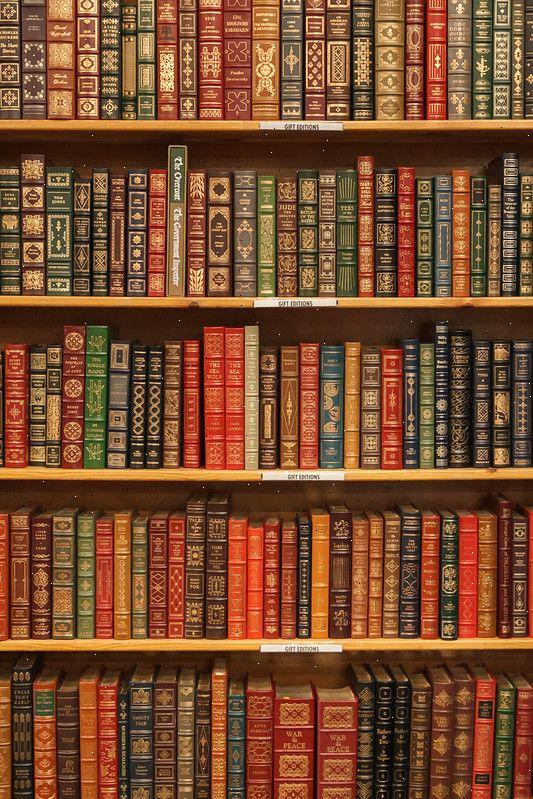book: (3, 251, 522, 300), (5, 605, 518, 646), (6, 435, 530, 475), (316, 684, 359, 799), (273, 684, 316, 799), (10, 653, 40, 798), (445, 666, 476, 799), (127, 665, 156, 799), (348, 664, 377, 796), (84, 324, 110, 469), (428, 665, 457, 795), (31, 665, 59, 798), (45, 167, 73, 300), (20, 154, 46, 297), (61, 322, 86, 470), (489, 671, 518, 797), (470, 667, 498, 797), (51, 509, 78, 643), (205, 492, 229, 639), (8, 507, 34, 642), (406, 668, 433, 797), (376, 2, 405, 122), (106, 337, 132, 470), (246, 676, 274, 799), (251, 2, 280, 119), (46, 0, 75, 117), (56, 669, 82, 799), (328, 504, 353, 639), (223, 2, 252, 118), (29, 509, 54, 642), (96, 666, 121, 799), (153, 666, 178, 799), (184, 493, 206, 640), (167, 146, 188, 300), (449, 328, 472, 468), (203, 326, 225, 471), (398, 506, 422, 638), (207, 170, 231, 301), (79, 667, 103, 798), (3, 343, 28, 468), (372, 662, 396, 792), (389, 664, 413, 793), (20, 2, 47, 116), (198, 2, 224, 120), (75, 510, 98, 642), (225, 328, 246, 472), (320, 345, 344, 470), (326, 2, 351, 120), (75, 0, 100, 118), (234, 171, 257, 299), (336, 167, 358, 300), (476, 509, 498, 640), (511, 339, 533, 470), (375, 167, 397, 298), (510, 672, 533, 797), (457, 509, 479, 638), (297, 171, 319, 299), (448, 2, 472, 119), (226, 676, 249, 798), (382, 347, 404, 474), (496, 492, 515, 637), (299, 341, 320, 472), (126, 168, 147, 299), (176, 667, 197, 798), (420, 510, 441, 640), (439, 510, 460, 639), (0, 167, 21, 296), (510, 506, 530, 641), (350, 2, 373, 119), (360, 344, 381, 472), (281, 2, 304, 118), (310, 507, 330, 639), (502, 152, 520, 298), (277, 176, 298, 300), (148, 512, 168, 642), (147, 169, 167, 299), (472, 339, 492, 469), (95, 511, 115, 641), (426, 2, 448, 120), (381, 510, 401, 639), (492, 340, 512, 469), (157, 3, 179, 120), (100, 2, 122, 119), (167, 513, 187, 641), (304, 2, 326, 118), (358, 157, 376, 298), (472, 3, 494, 118), (228, 515, 248, 641), (259, 346, 279, 472), (280, 347, 300, 473), (194, 671, 214, 797), (183, 338, 202, 470), (187, 170, 206, 302), (211, 663, 230, 795), (72, 171, 92, 296), (163, 339, 182, 470), (452, 169, 471, 300), (318, 170, 337, 300), (257, 175, 277, 298), (405, 2, 426, 119), (113, 511, 132, 640), (130, 512, 149, 641), (244, 327, 261, 471), (136, 2, 157, 118), (129, 344, 148, 471), (91, 169, 110, 296), (351, 513, 370, 639), (398, 168, 416, 301), (415, 175, 434, 300), (0, 4, 21, 116), (492, 2, 512, 119), (178, 2, 198, 119), (28, 346, 47, 469), (435, 323, 451, 466), (435, 174, 453, 301), (367, 512, 385, 638), (146, 345, 164, 471), (109, 172, 127, 298), (263, 516, 281, 640), (247, 517, 265, 640), (403, 339, 420, 469), (120, 0, 139, 116), (470, 177, 488, 299), (45, 346, 63, 468), (419, 339, 436, 468), (117, 670, 134, 799), (344, 341, 361, 467), (281, 516, 298, 640), (296, 515, 313, 639), (0, 664, 13, 799), (519, 176, 533, 300), (488, 185, 503, 298), (512, 3, 526, 118)
